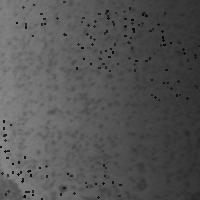pitted_surface: (23, 1, 184, 195), (105, 10, 163, 70), (76, 11, 134, 69), (149, 39, 198, 99), (0, 120, 46, 175), (60, 164, 119, 200), (11, 0, 64, 35), (107, 0, 165, 30), (0, 170, 41, 200), (1, 168, 27, 200)
